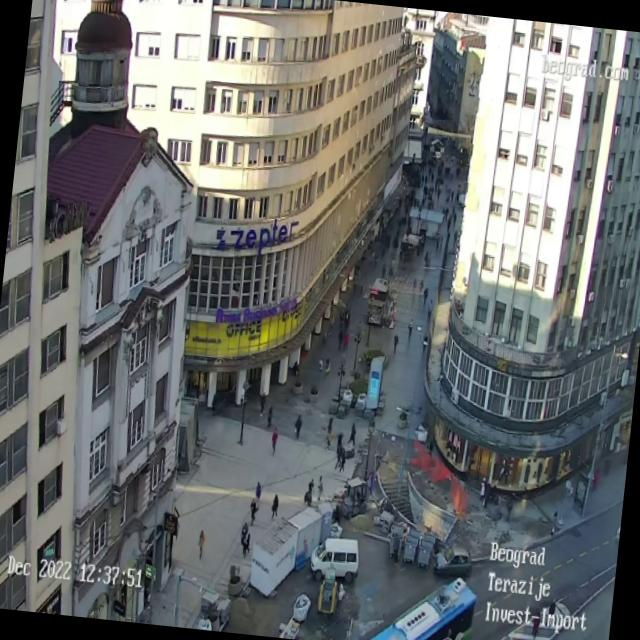bus: (362, 566, 478, 640)
car: (310, 538, 360, 580)
